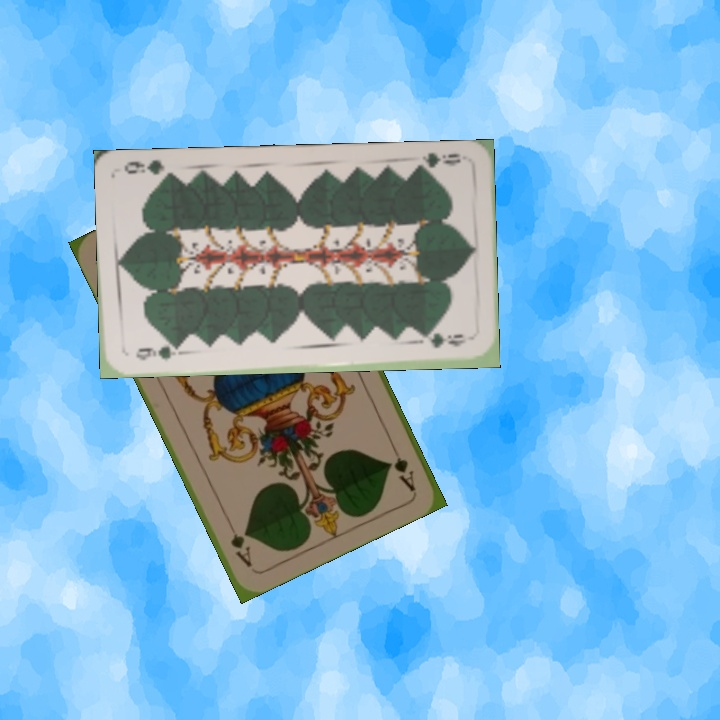G9: (409, 149, 464, 175), (132, 341, 183, 363)
GA: (385, 437, 418, 493)
